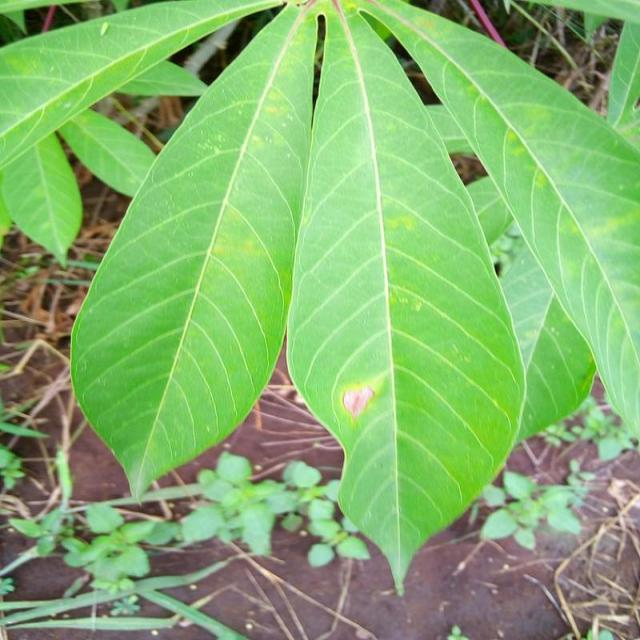cassava leaf: (285, 1, 527, 596), (356, 0, 639, 445), (68, 1, 318, 502)
